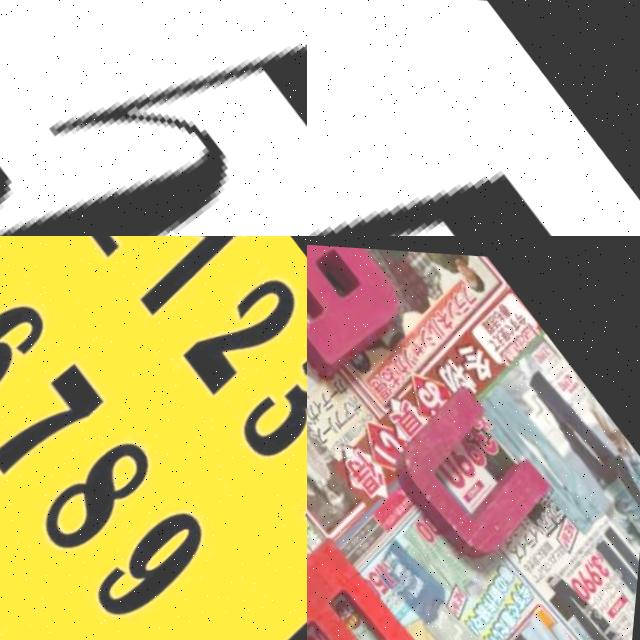1: (97, 236, 282, 342)
2: (156, 237, 307, 409)
3: (211, 309, 307, 480)
4: (271, 373, 307, 542)
5: (307, 4, 640, 236), (0, 0, 307, 236)
6: (0, 266, 83, 430)
7: (0, 335, 139, 510)
8: (18, 397, 204, 574)
9: (64, 470, 254, 640)
A: (307, 237, 417, 379)
E: (307, 527, 445, 640)
U: (377, 375, 569, 566)
